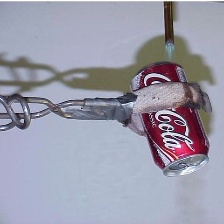can: (124, 58, 213, 178)
